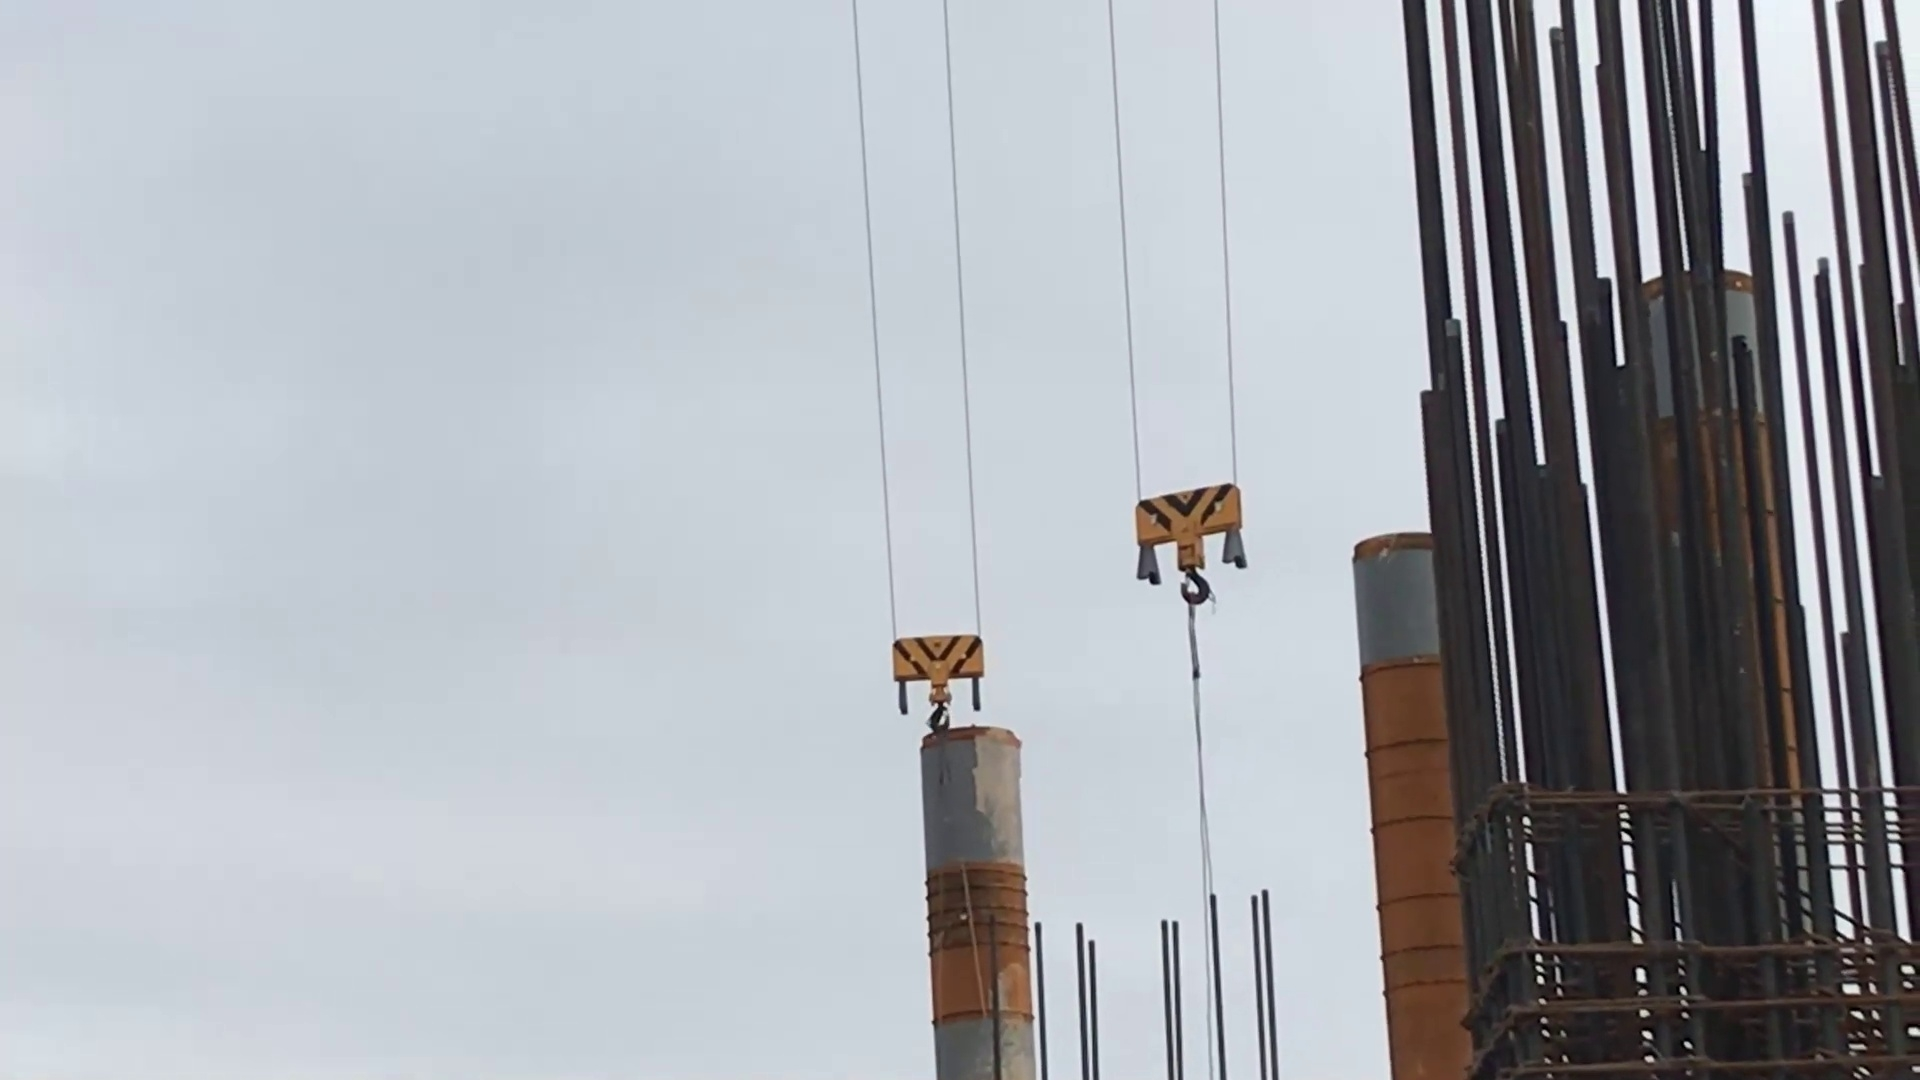hook: (1127, 479, 1251, 608), (889, 632, 984, 742)
